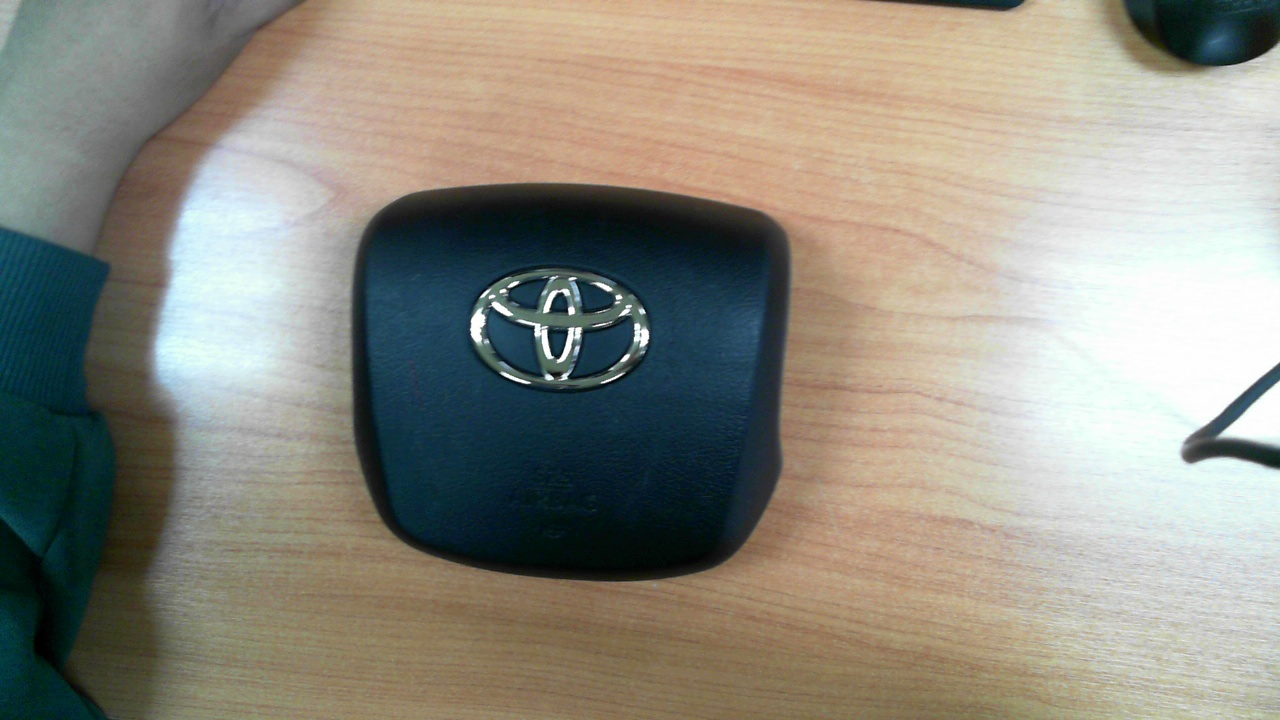Airbag: (350, 182, 791, 583)
Toyota: (470, 267, 651, 390)
